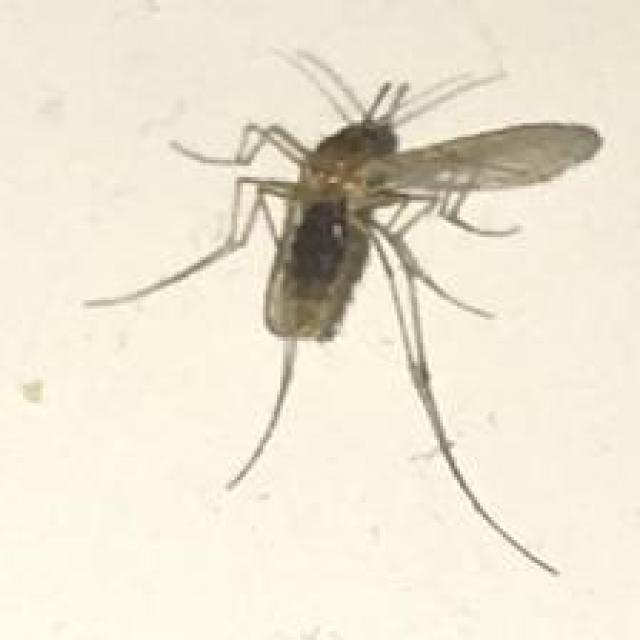Culex: (81, 44, 604, 576)
